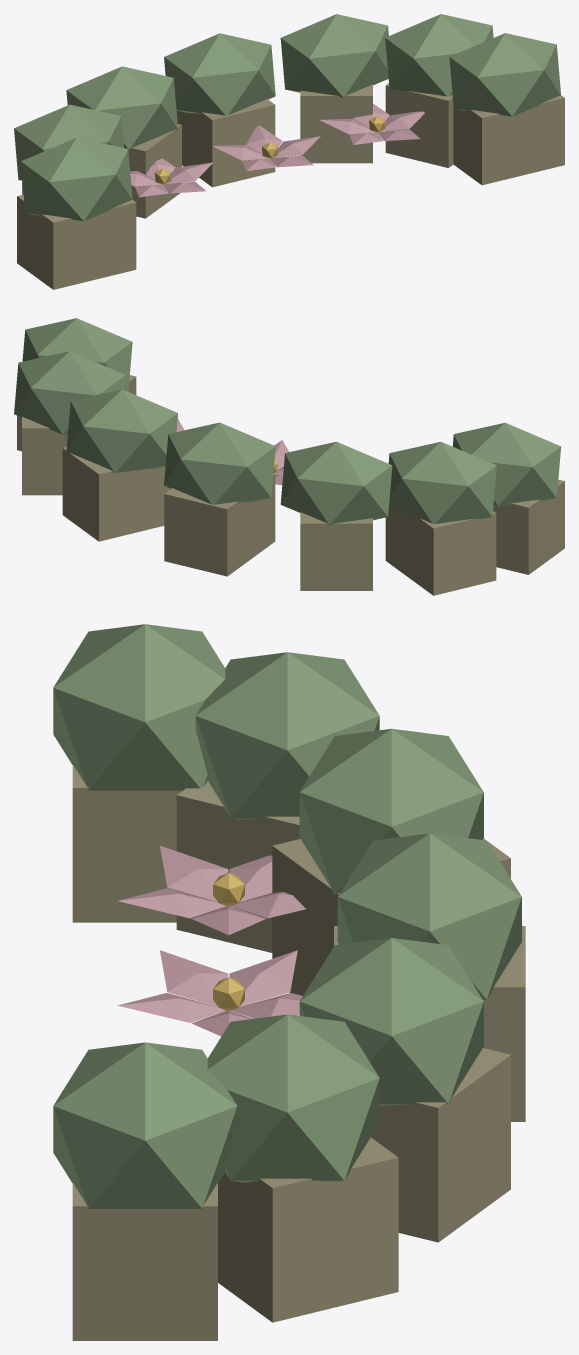
File: map-exclusive-v3__village_13.glb
3 renders of one model, top to bottom at view 1: azimuth 30°, elevation 25°; view 2: azimuth 150°, elevation 25°; view 3: azimuth 270°, elevation 25°, orthographic. The views are drawn at different scales.
Parts seen in each view (by area): view 1: village_13; view 2: village_13; view 3: village_13.
Part boxes in pixels (x1,y1,x2,y2): village_13: (14,14,564,289); village_13: (14,318,564,595); village_13: (53,624,525,1340).
Bounding box in the file's own units: 3.97 × 0.9199 × 1.53.
